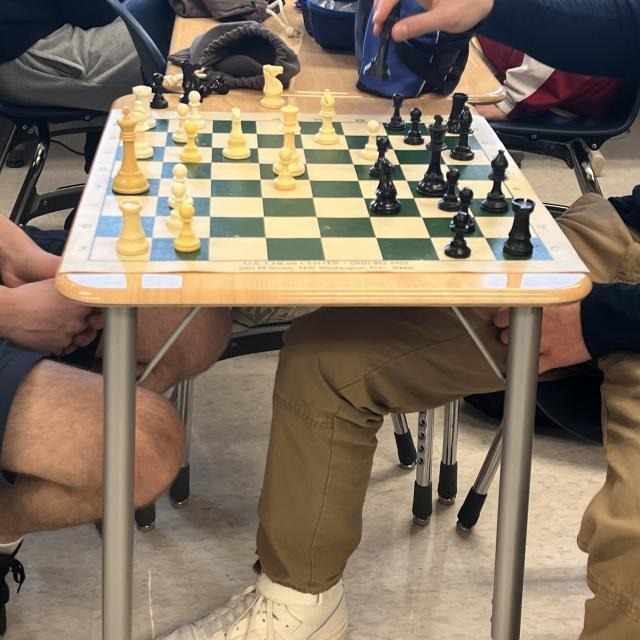black-bishop: (479, 150, 508, 214), (448, 105, 475, 160)
black-king: (416, 114, 449, 197)
black-knight: (369, 157, 401, 215), (179, 59, 204, 104)
black-pawn: (444, 209, 472, 258), (448, 186, 476, 234), (437, 168, 462, 212), (369, 136, 393, 178), (403, 106, 425, 145), (385, 93, 406, 131), (147, 73, 169, 109), (199, 74, 229, 97)
black-queen: (362, 0, 401, 82)
black-rook: (504, 198, 536, 256), (443, 93, 469, 135)
white-bishop: (127, 99, 153, 160), (314, 87, 340, 144)
white-king: (110, 106, 149, 194)
white-knight: (222, 107, 250, 161), (259, 64, 284, 108)
white-pawn: (174, 204, 202, 252), (167, 183, 193, 229), (168, 163, 193, 207), (274, 147, 298, 191), (359, 119, 384, 161), (179, 123, 203, 163), (184, 90, 206, 129), (173, 102, 191, 143)
white-queen: (272, 103, 305, 176)
white-rook: (114, 198, 150, 258), (130, 84, 158, 131)
